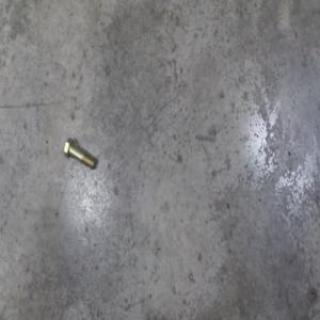Bolttrack_idkeyframe: (63, 136, 95, 170)
